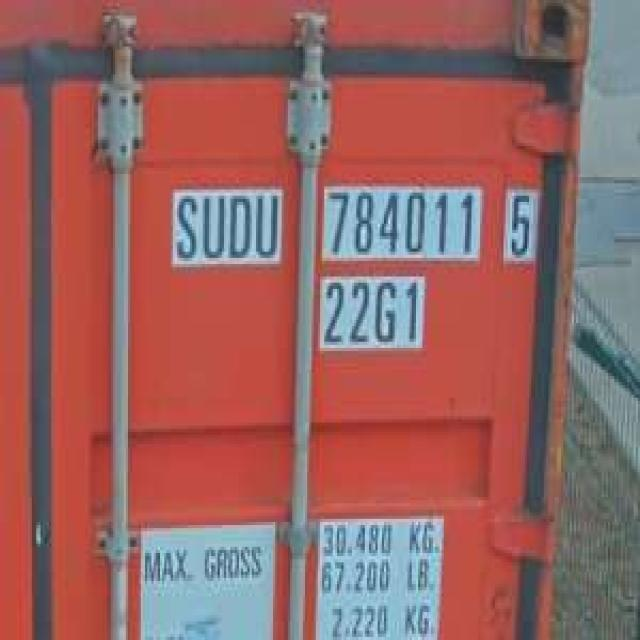dv: (499, 183, 540, 264)
owner: (170, 186, 282, 264)
serial: (320, 180, 482, 261)
size: (316, 273, 422, 351)
